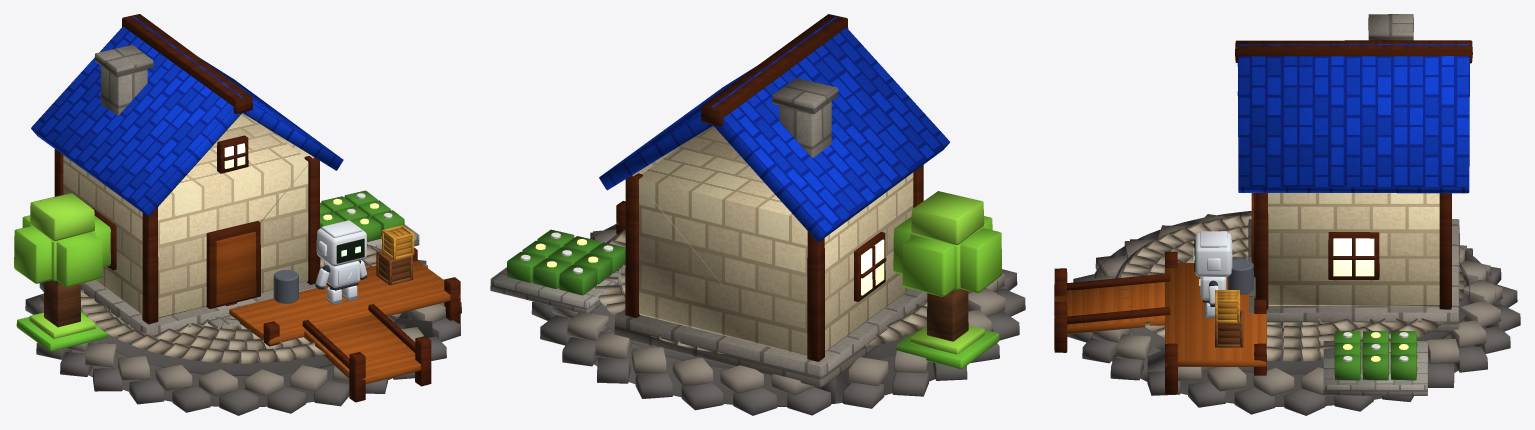
Rendered from novice_island.glb.
3 views of the same model, side by side, from view 1: azimuth 30°, elevation 25°; view 2: azimuth 150°, elevation 25°; view 3: azimuth 270°, elevation 25° (orthographic). The views are drawn at different scales.
Visible parts, largest first — view 1: Walls, RoofSlope_-1, MainDeck, FrontJetty, RidgeBeam, UpperDeck2, Foundation, DoorLeaf, CrownTop, RoofSlope_1, CrownPosZ, CoreBase2 (+39 smaller); view 2: Walls, RoofSlope_-1, Foundation, RidgeBeam, CrownTop, RoofSlope_1, CrownNegZ, StoneCurb, CrownNegX, Post_-6_-6, Post_6_-6, Trunk (+36 smaller); view 3: RoofSlope_1, Walls, MainDeck, Foundation, RidgeBeam, FrontJetty, StoneCurb, CoreBase, Post_6_-6, Post_6_6, UpperDeck, Glass2 (+34 smaller).
Part boxes in pixels (x1,y1,x2,y2): Walls: (63,113,308,318); RoofSlope_-1: (31,16,242,216); MainDeck: (229,261,460,344); FrontJetty: (304,314,420,383); RidgeBeam: (122,14,252,113); UpperDeck2: (81,307,408,375); Foundation: (80,280,326,336); DoorLeaf: (215,232,256,305); CrownTop: (30,193,94,241); RoofSlope_1: (132,16,343,170); CrownPosZ: (56,232,102,287); CoreBase2: (70,317,432,406); Walls: (639,126,913,355); RoofSlope_-1: (713,17,949,241); Foundation: (614,289,927,387); RidgeBeam: (701,14,848,126); CrownTop: (911,191,984,244); RoofSlope_1: (599,16,836,190); CrownNegZ: (902,236,954,296); StoneCurb: (490,267,625,312); CrownNegX: (960,228,1002,292); Post_-6_-6: (807,231,824,361); Post_6_-6: (625,173,642,317); Trunk: (927,289,968,341); RoofSlope_1: (1237,44,1469,193); Walls: (1268,193,1439,306); MainDeck: (1164,263,1266,366); Foundation: (1248,219,1459,331); RidgeBeam: (1235,40,1472,63); FrontJetty: (1054,282,1165,334); StoneCurb: (1323,341,1428,395); CoreBase: (1147,247,1495,406); Post_6_-6: (1439,193,1451,309); Post_6_6: (1255,193,1268,309); UpperDeck: (1215,262,1469,374); Glass2: (1333,238,1374,276).
Bounding box in the file's own units: 4.54 × 2.77 × 4.44.
34 materials, 14 textured.
